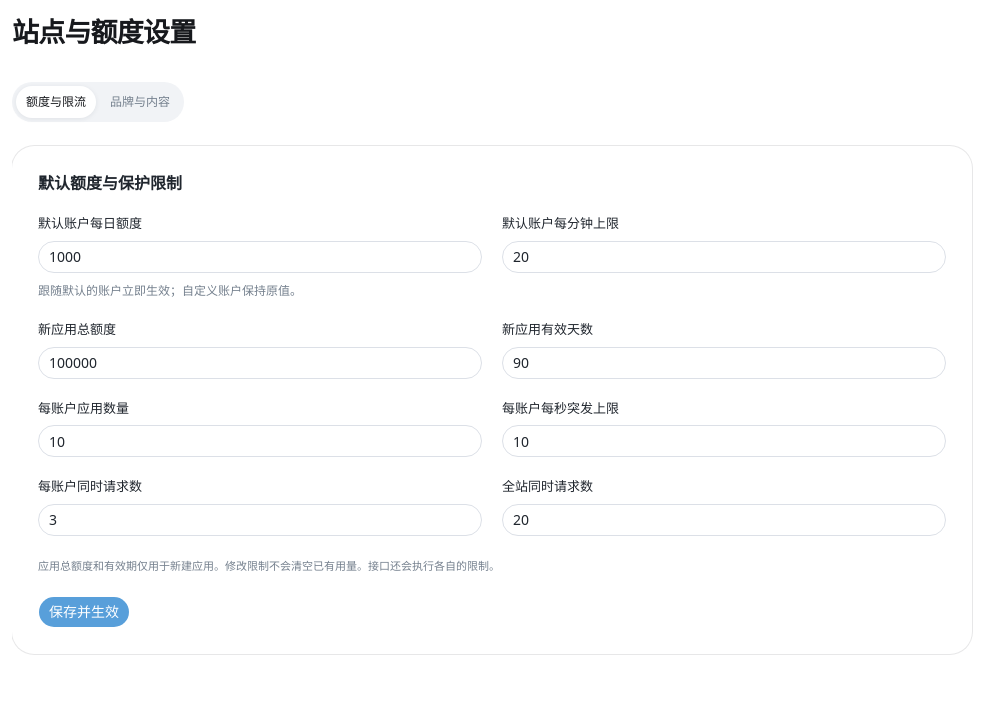
Test: preserves a runtime settings draft after a concurrent-update conflict
Replace the text in the number field labelled "默认账户每日额度" with "2400" at (260, 257), box [38,241,482,273]
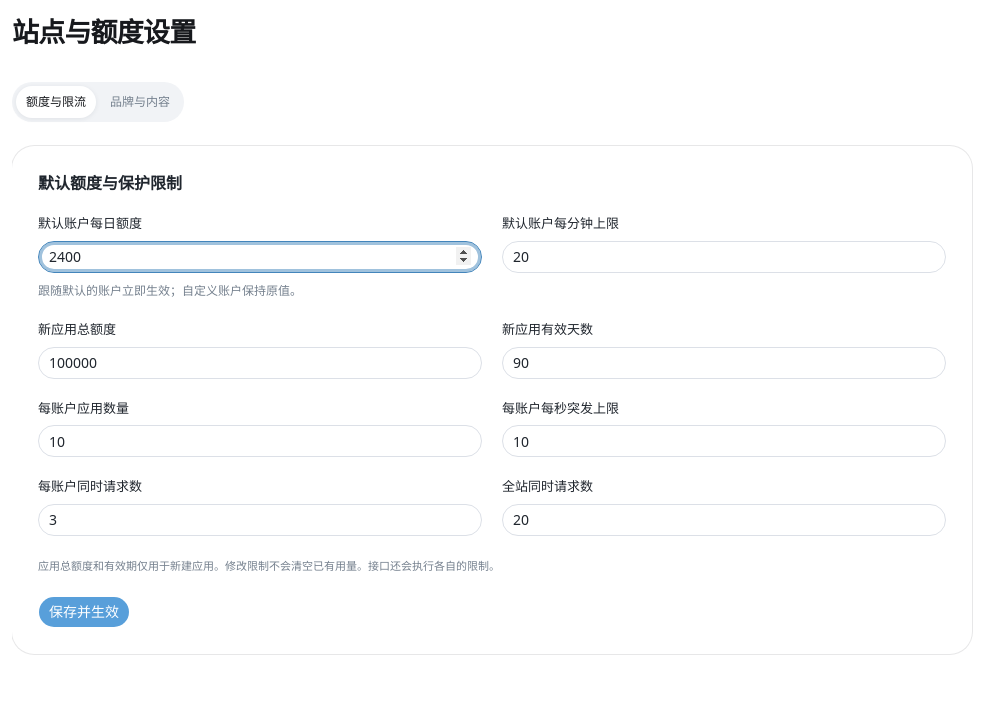
Click the button "保存并生效".
click(84, 612)  # box [38,596,130,628]
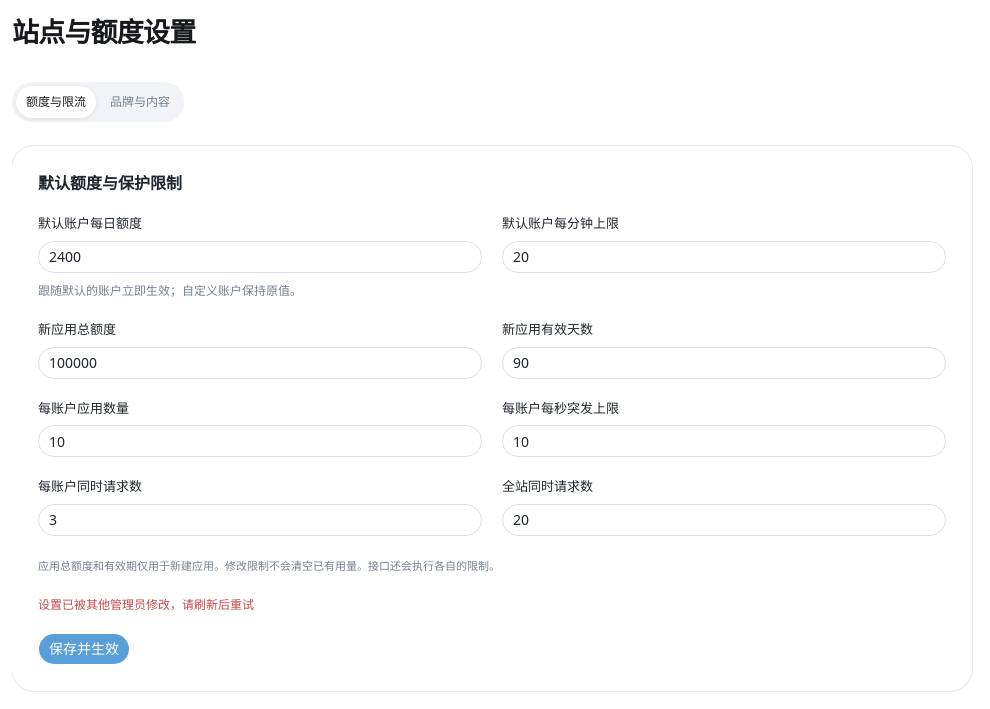
expect the message shows "其他管理员": met, box [38,596,254,613]
